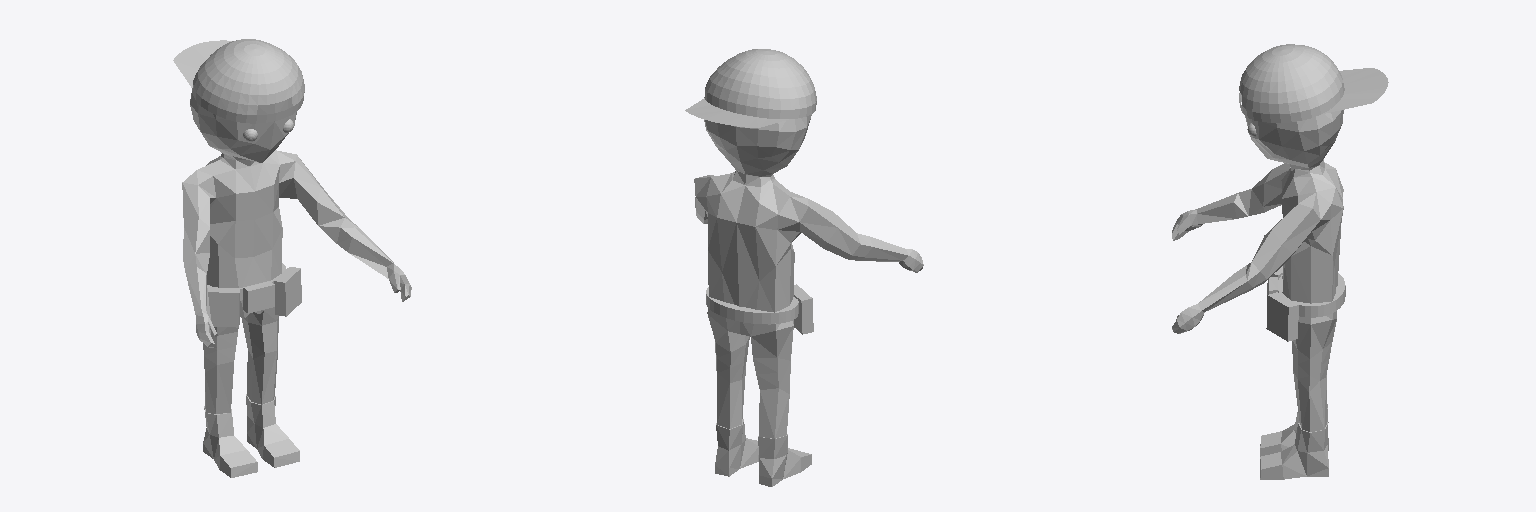
The model's file is Main_Character_Computer_2.obj.
The picture shows the model from 3 angles: view 1: azimuth 30°, elevation 25°; view 2: azimuth 150°, elevation 25°; view 3: azimuth 270°, elevation 25°; orthographic projection.
Parts seen in each view (by area): view 1: Main_Character_Test.003_Main_Character_Test.004; view 2: Main_Character_Test.003_Main_Character_Test.004; view 3: Main_Character_Test.003_Main_Character_Test.004.
Part boxes in pixels (left/top/right/bottom): Main_Character_Test.003_Main_Character_Test.004: left=173, top=39, right=411, bottom=477; Main_Character_Test.003_Main_Character_Test.004: left=685, top=49, right=923, bottom=486; Main_Character_Test.003_Main_Character_Test.004: left=1172, top=44, right=1388, bottom=479.
Bounding box in the file's own units: 2.12 × 3.96 × 1.89.